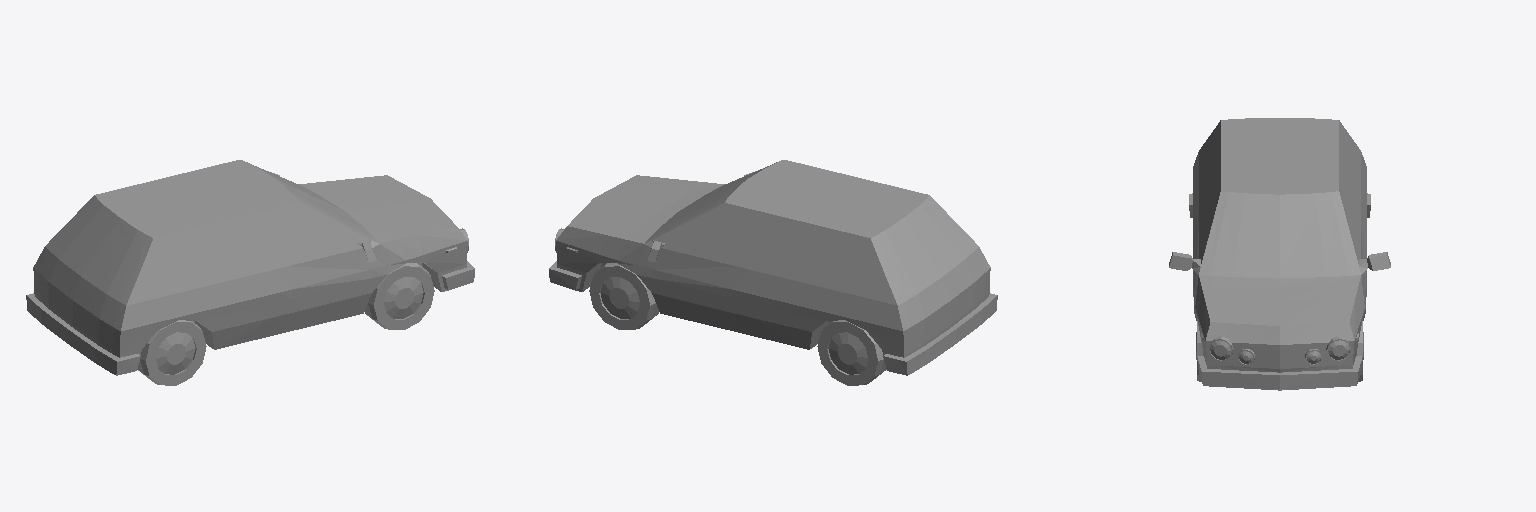
Rendered from vehicle_car.obj.
3 renders of one model, left to right at view 1: azimuth 30°, elevation 25°; view 2: azimuth 150°, elevation 25°; view 3: azimuth 270°, elevation 25°, orthographic.
Parts seen in each view (by area): view 1: Car, fr_Car.004, rr_Car.003; view 2: Car, fl_Car.002, rl_Car.001; view 3: Car.
Boxes of the visible parts, x1,y1,x2,y2 form: Car: [26, 160, 474, 375]; fr_Car.004: [365, 263, 434, 329]; rr_Car.003: [137, 320, 206, 385]; Car: [549, 160, 997, 375]; fl_Car.002: [589, 263, 658, 329]; rl_Car.001: [817, 320, 886, 385]; Car: [1169, 118, 1390, 390].
Bounding box in the file's own units: 347 × 126 × 177.